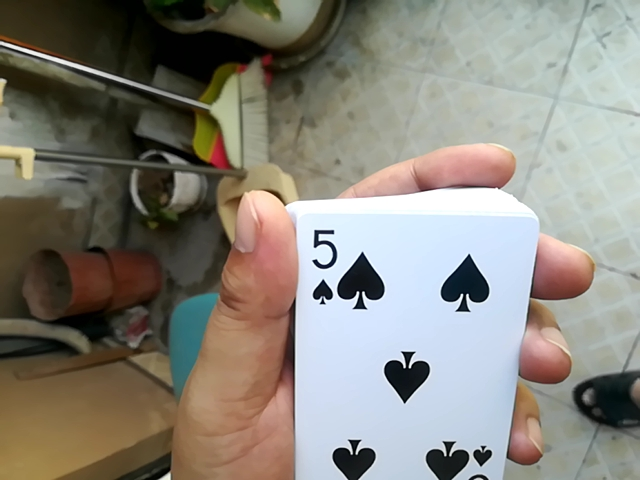ht 5: (279, 194, 531, 480)
